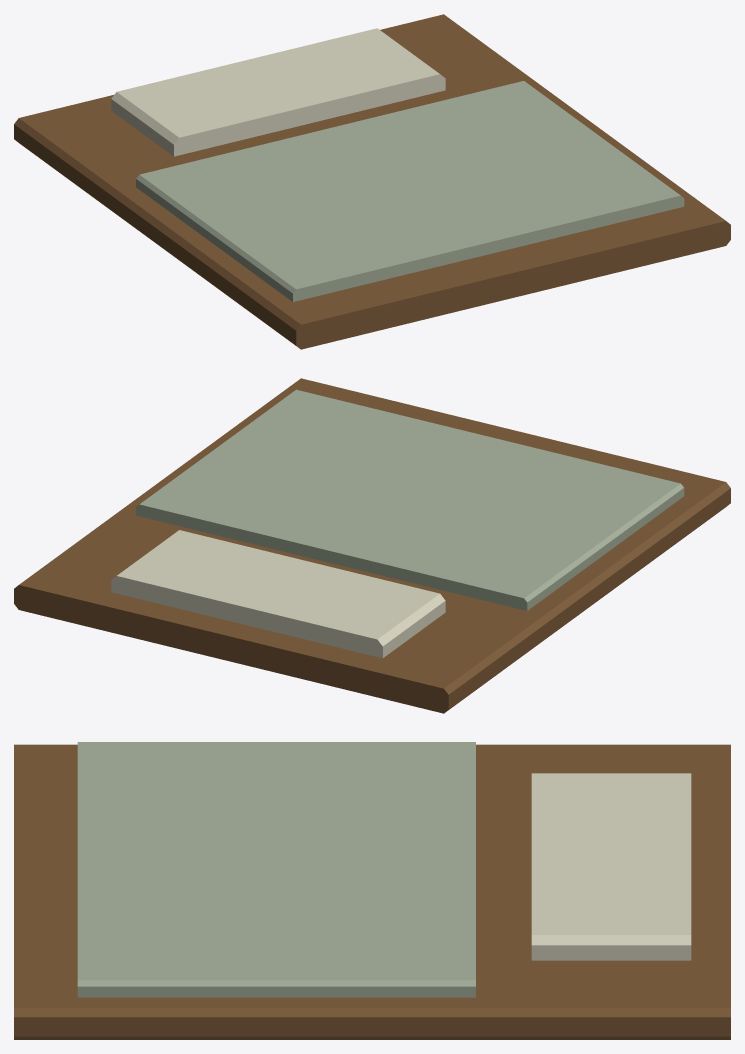
Rendered from SleepingSpot.gltf.
The picture shows the model from 3 angles, top to bottom: view 1: azimuth 30°, elevation 25°; view 2: azimuth 150°, elevation 25°; view 3: azimuth 270°, elevation 25°; orthographic projection. The views are drawn at different scales.
Parts seen in each view (by area): view 1: SleepingSpot; view 2: SleepingSpot; view 3: SleepingSpot.
Boxes of the visible parts, left/top/right/bottom form: SleepingSpot: left=14, top=14, right=730, bottom=349; SleepingSpot: left=14, top=378, right=730, bottom=713; SleepingSpot: left=14, top=742, right=730, bottom=1039.
Size of the model in its own units: 0.8 by 0.075 by 0.9.
